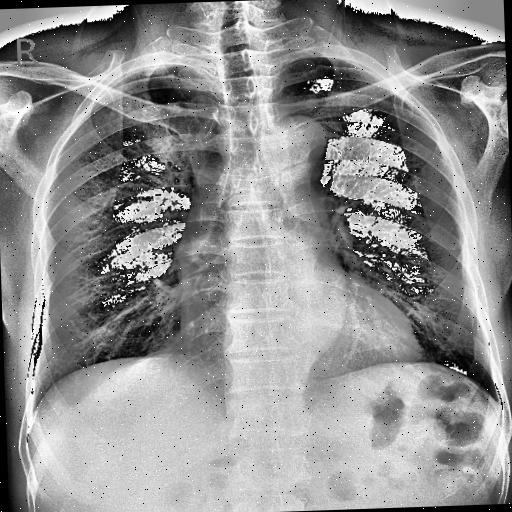0- Aortic enlargement: (252, 114, 330, 186), (257, 114, 328, 171), (268, 114, 328, 181)
11- Pleural thickening: (110, 62, 176, 84)
3- Cardiomegaly: (178, 285, 418, 370), (174, 308, 422, 385), (178, 312, 420, 390)
